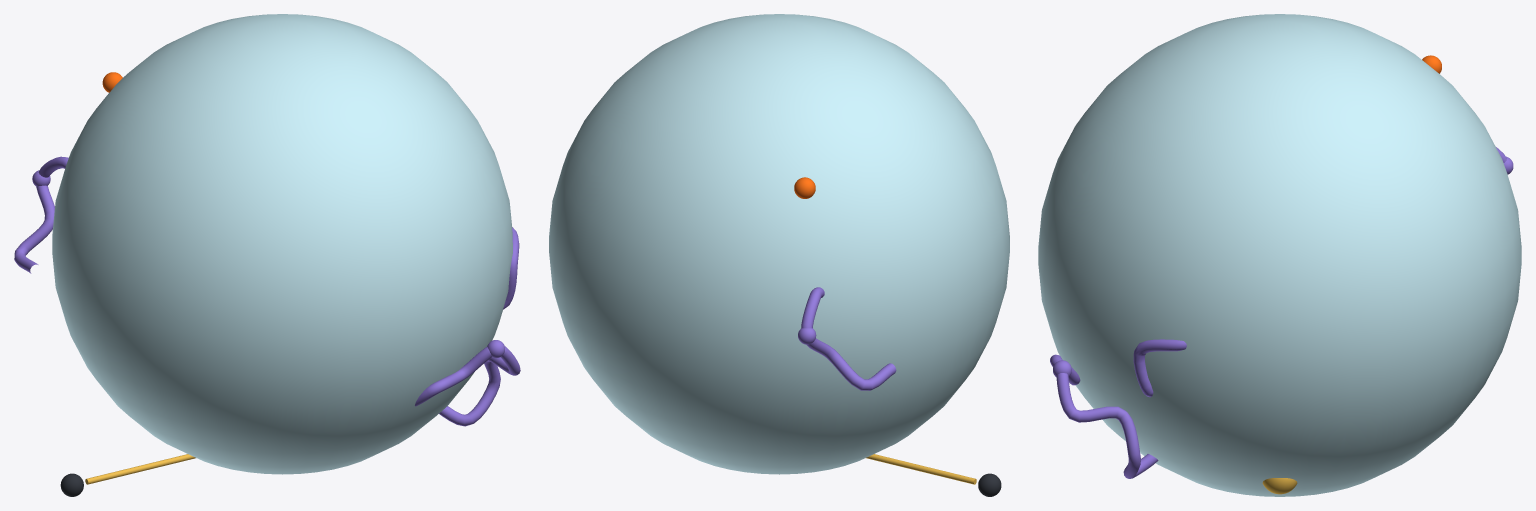
File: lysozyme-enzyme.glb
3 views of the same model, side by side, from view 1: azimuth 30°, elevation 25°; view 2: azimuth 150°, elevation 25°; view 3: azimuth 270°, elevation 25° (orthographic). The views are drawn at different scales.
Visible parts, largest first — view 1: structure-bounding-capsule, real-pdb-chain-A-backbone, sequence-to-fold-arrow; view 2: structure-bounding-capsule, real-pdb-chain-A-backbone, sequence-to-fold-arrow; view 3: structure-bounding-capsule, real-pdb-chain-A-backbone.
Part boxes in pixels (x1,y1,x2,y2): structure-bounding-capsule: [52, 14, 512, 474]; real-pdb-chain-A-backbone: [14, 156, 520, 426]; sequence-to-fold-arrow: [85, 454, 195, 484]; structure-bounding-capsule: [549, 14, 1009, 474]; real-pdb-chain-A-backbone: [801, 287, 896, 390]; sequence-to-fold-arrow: [866, 454, 976, 484]; structure-bounding-capsule: [1038, 14, 1521, 496]; real-pdb-chain-A-backbone: [1050, 147, 1506, 478].
Size of what is drawn, in the model's own units: 2.9 by 2.76 by 2.75.
